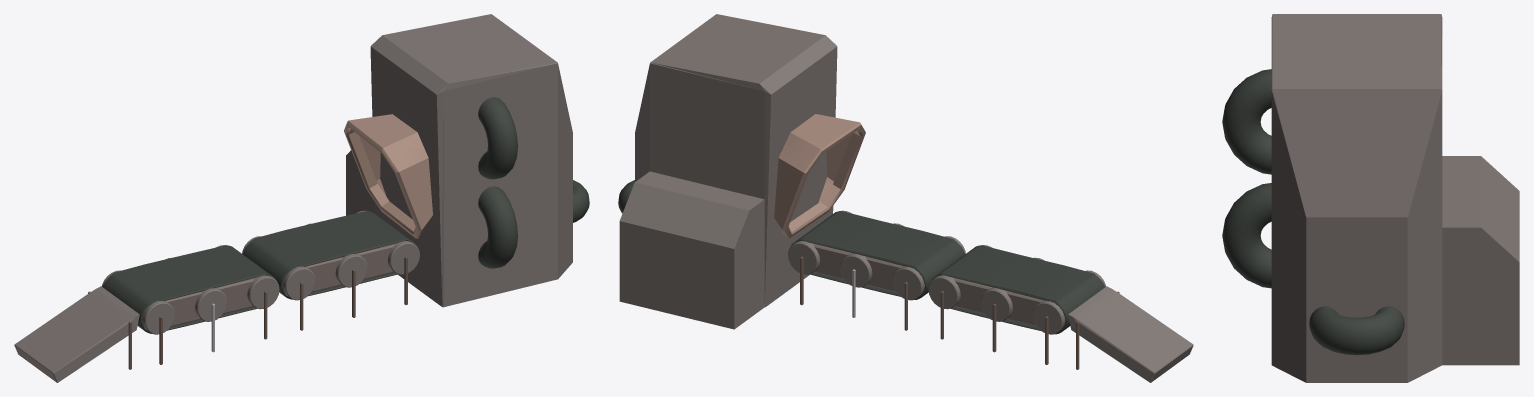
Rendered from machien P.fbx.
3 renders of one model, left to right at view 1: azimuth 30°, elevation 25°; view 2: azimuth 150°, elevation 25°; view 3: azimuth 270°, elevation 25°, orthographic. The views are drawn at different scales.
Parts seen in each view (by area): view 1: pCube4, pCube3, pCube5, pasted__pasted__pPipe1, pasted__pasted__pasted__pPipe1, pTorus2, pasted__pTorus2, pasted__pasted__pCube2, pasted__pasted__pasted__pCube2, pasted__pasted__pasted__pCylinder1, pasted__pasted__pasted__pasted__pCylinder1, pasted__pasted__pasted__pCylinder2 (+4 smaller); view 2: pCube4, pCube3, pCube5, pasted__pasted__pPipe1, pasted__pasted__pasted__pPipe1, pasted__pasted__pCube2, pasted__pasted__pasted__pCube2, pasted__pasted__pasted__pasted__pCylinder1, pasted__pasted__pasted__pCylinder1, pasted__pasted__pCylinder1, pasted__pasted__pasted__pCylinder3, pasted__pasted__pasted__pCylinder2 (+1 smaller); view 3: pCube4, pasted__pTorus2, pTorus2, pTorus1.
Part boxes in pixels (x1,y1,x2,y2): pCube4: [346, 14, 572, 307]; pCube3: [344, 114, 432, 238]; pCube5: [14, 286, 139, 382]; pasted__pasted__pPipe1: [243, 211, 417, 299]; pasted__pasted__pasted__pPipe1: [103, 245, 276, 333]; pTorus2: [478, 97, 517, 179]; pasted__pTorus2: [478, 186, 517, 268]; pasted__pasted__pCube2: [305, 244, 394, 291]; pasted__pasted__pasted__pCube2: [165, 278, 253, 326]; pasted__pasted__pasted__pCylinder1: [242, 236, 315, 300]; pasted__pasted__pasted__pasted__pCylinder1: [102, 270, 174, 334]; pasted__pasted__pasted__pCylinder2: [356, 210, 419, 274]; pCube4: [619, 14, 837, 329]; pCube3: [774, 114, 865, 238]; pCube5: [1068, 286, 1193, 382]; pasted__pasted__pPipe1: [790, 211, 964, 299]; pasted__pasted__pasted__pPipe1: [931, 245, 1104, 334]; pasted__pasted__pCube2: [813, 244, 903, 291]; pasted__pasted__pasted__pCube2: [954, 278, 1043, 326]; pasted__pasted__pasted__pasted__pCylinder1: [1033, 270, 1105, 334]; pasted__pasted__pasted__pCylinder1: [892, 236, 965, 300]; pasted__pasted__pCylinder1: [840, 223, 904, 287]; pasted__pasted__pasted__pCylinder3: [980, 257, 1044, 321]; pasted__pasted__pasted__pCylinder2: [788, 210, 851, 274]; pCube4: [1271, 14, 1519, 382]; pasted__pTorus2: [1222, 183, 1271, 288]; pTorus2: [1222, 69, 1271, 174]; pTorus1: [1309, 306, 1404, 355].
Bounding box in the file's own units: 5.4 × 2.08 × 1.98.
